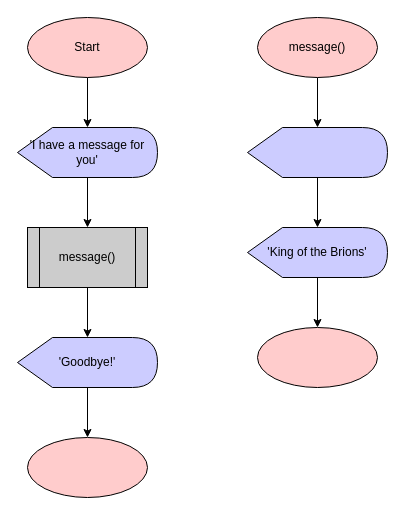
The diagram is 405 pixels wide and 515 high, and some of its shapes have lost their labels. The shapes that lost their labels are listed below. From the top down, each one's centre as x and y in pixels, then its label:
At [317,152]: "'I am Arthur'".
At [317,357]: "Return".
At [87,467]: "Stop".
